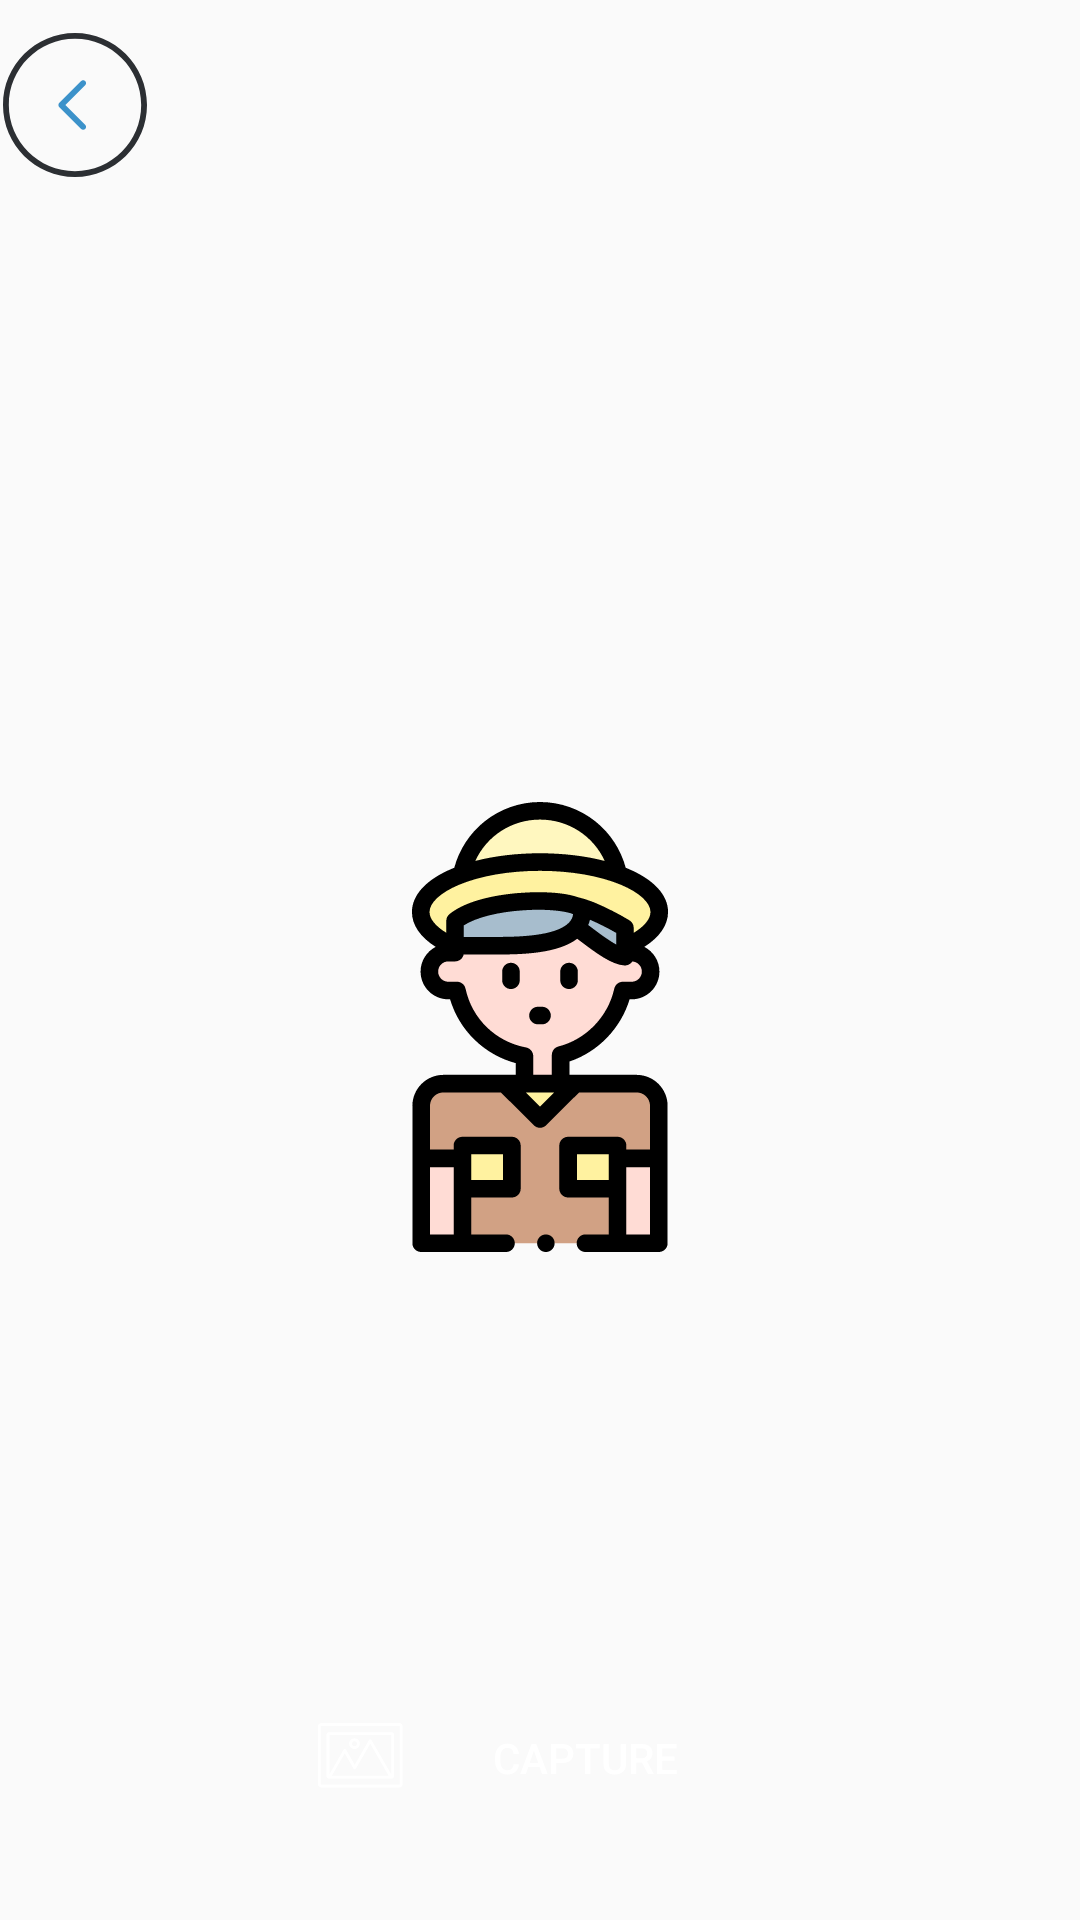

Screen size 1080x1920. Icon name, then its box in pixels as (x1, y1, x2, y2):
back: (3, 33, 147, 177)
